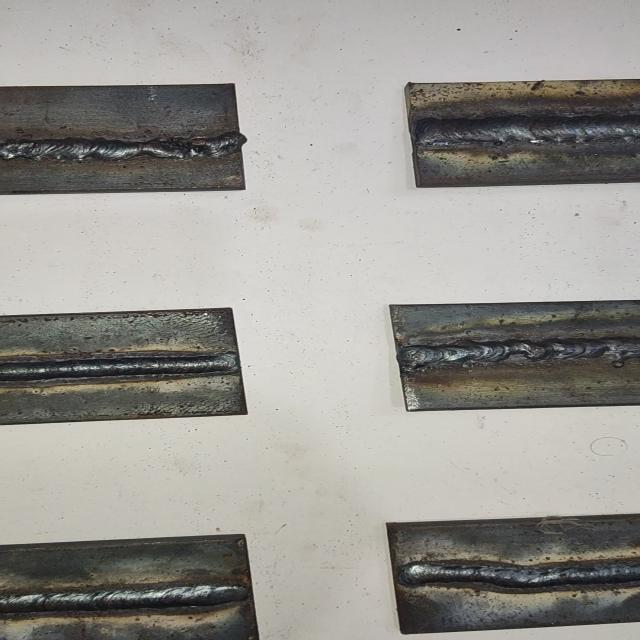Welding Line: (397, 334, 640, 370), (0, 581, 248, 615), (0, 351, 235, 381), (405, 560, 640, 588), (418, 114, 640, 143), (0, 136, 242, 162)
Workpiece: (380, 510, 640, 638), (0, 300, 255, 430), (0, 525, 272, 640), (384, 294, 640, 415), (0, 80, 257, 199), (399, 74, 640, 194)
